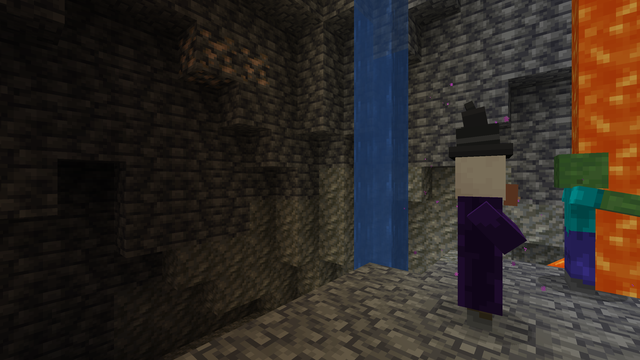sorcieres: (445, 147, 513, 341)
zombies: (551, 155, 612, 299)
